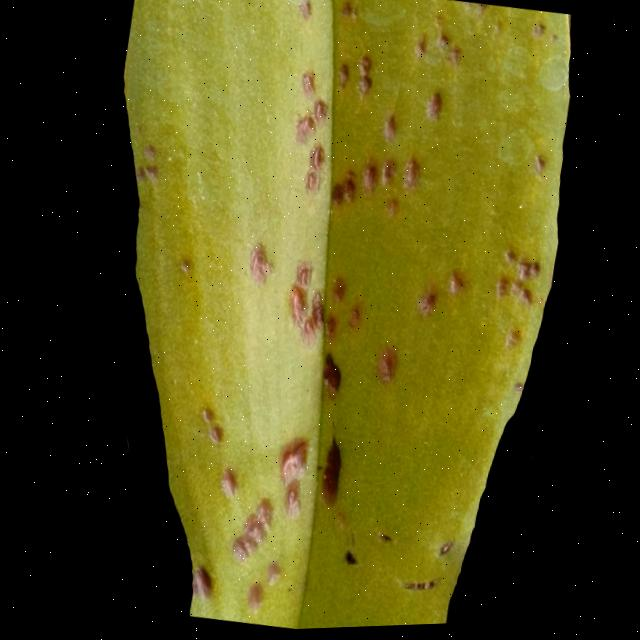mite: (312, 18, 469, 226), (334, 522, 461, 602), (326, 148, 428, 222), (492, 250, 547, 313), (339, 526, 398, 577), (194, 406, 231, 450), (329, 173, 361, 211), (352, 55, 379, 100), (319, 354, 347, 396), (188, 565, 218, 603), (422, 92, 448, 127), (433, 537, 460, 567), (516, 260, 544, 286), (373, 529, 400, 554), (206, 424, 227, 448), (530, 156, 550, 181), (437, 541, 456, 563), (342, 550, 361, 571), (378, 533, 395, 549)
spots: (38, 0, 596, 631)
